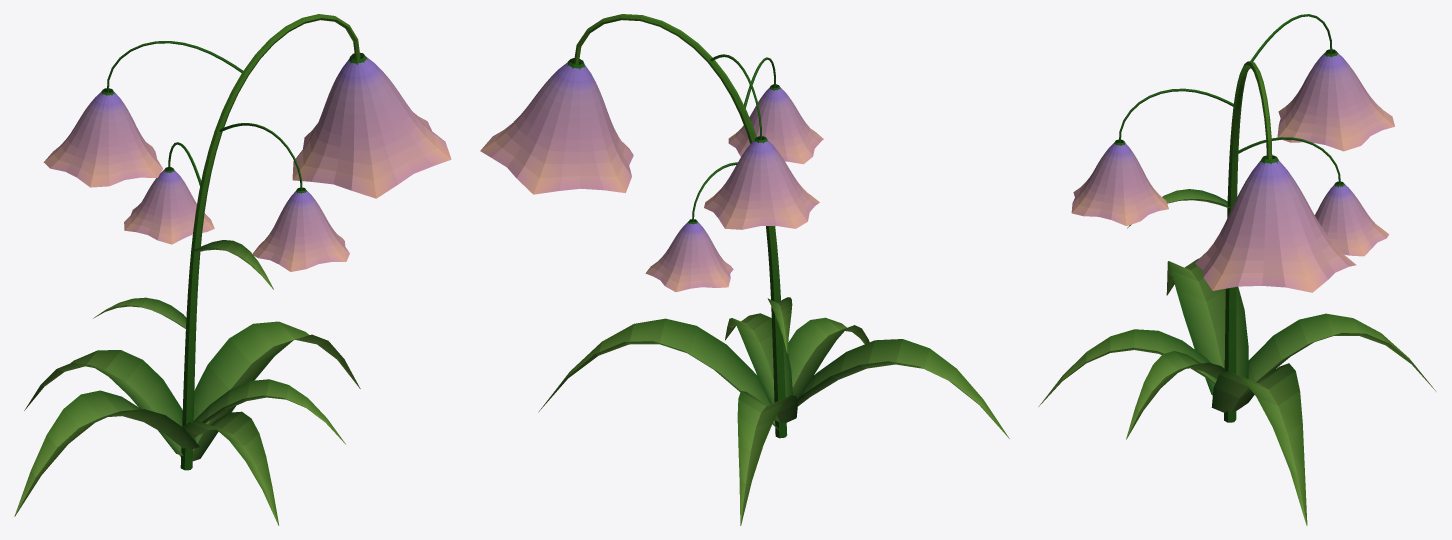
Rendered from bellflower.glb.
3 views of the same model, side by side, from view 1: azimuth 30°, elevation 25°; view 2: azimuth 150°, elevation 25°; view 3: azimuth 270°, elevation 25° (orthographic). The views are drawn at different scales.
Visible parts, largest first — view 1: bellflower; view 2: bellflower; view 3: bellflower.
Part boxes in pixels (bbox=[...]): bellflower: bbox=[14, 14, 451, 525]; bellflower: bbox=[480, 14, 1009, 525]; bellflower: bbox=[1038, 14, 1436, 525].
Bounding box in the file's own units: 4.04 × 3.37 × 2.91.
